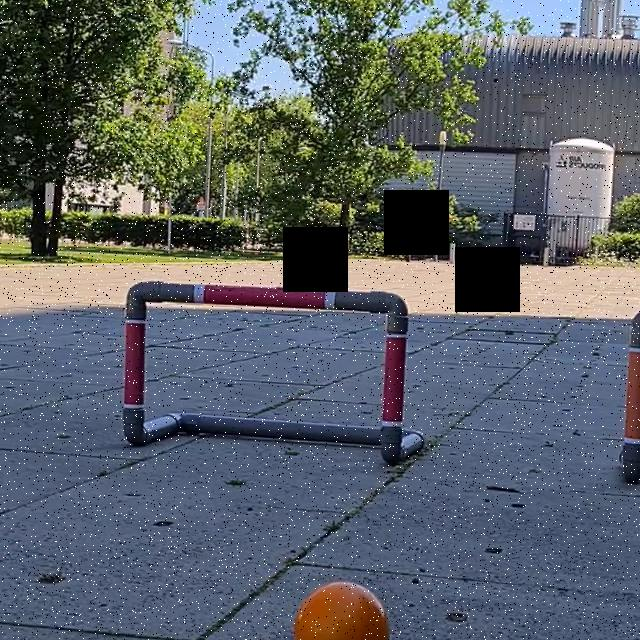ball: (292, 578, 392, 640)
